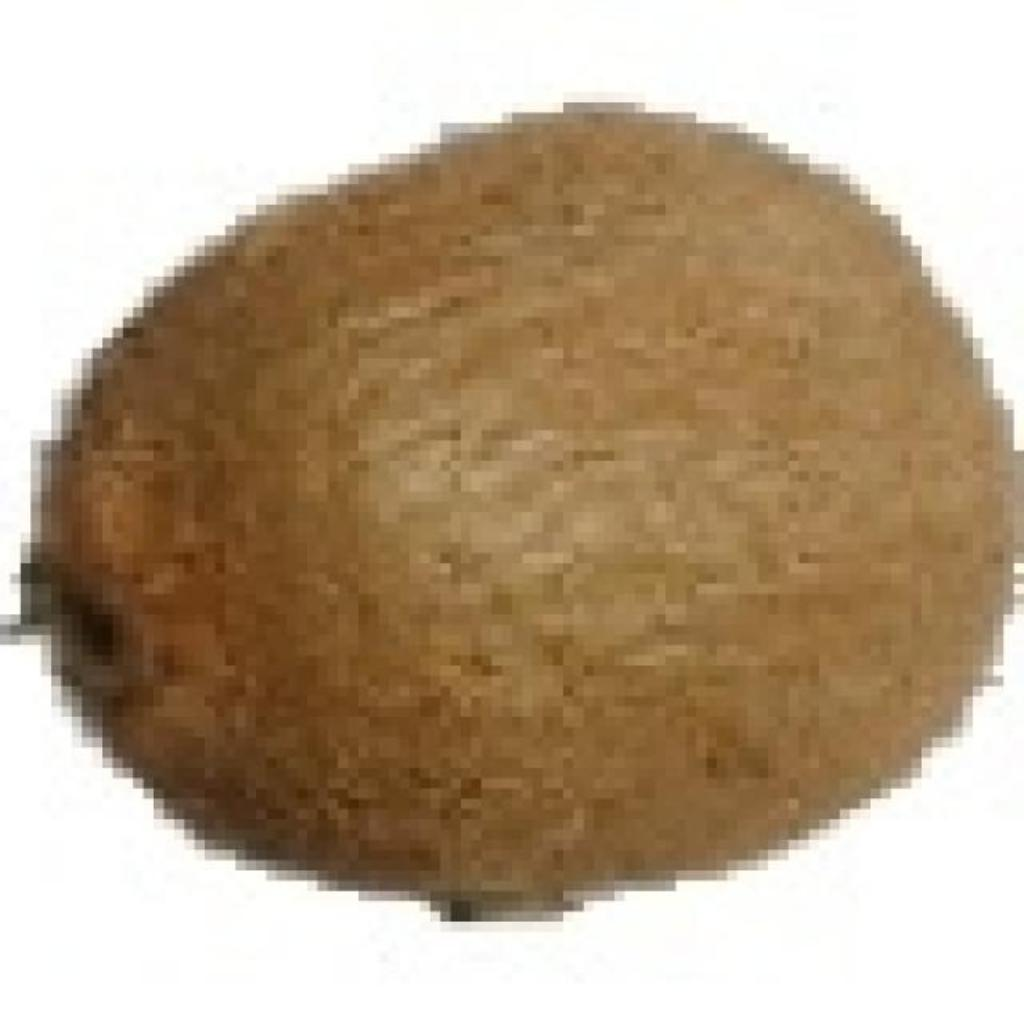kiwi: (61, 92, 1024, 891)
